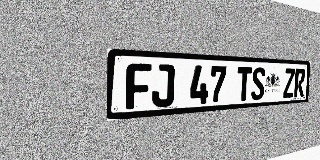4: (190, 65, 209, 105)
7: (209, 66, 227, 103)
F: (126, 63, 152, 109)
J: (152, 64, 175, 108)
R: (294, 69, 305, 97)
S: (251, 67, 266, 100)
T: (236, 67, 252, 101)
Z: (283, 68, 295, 98)
